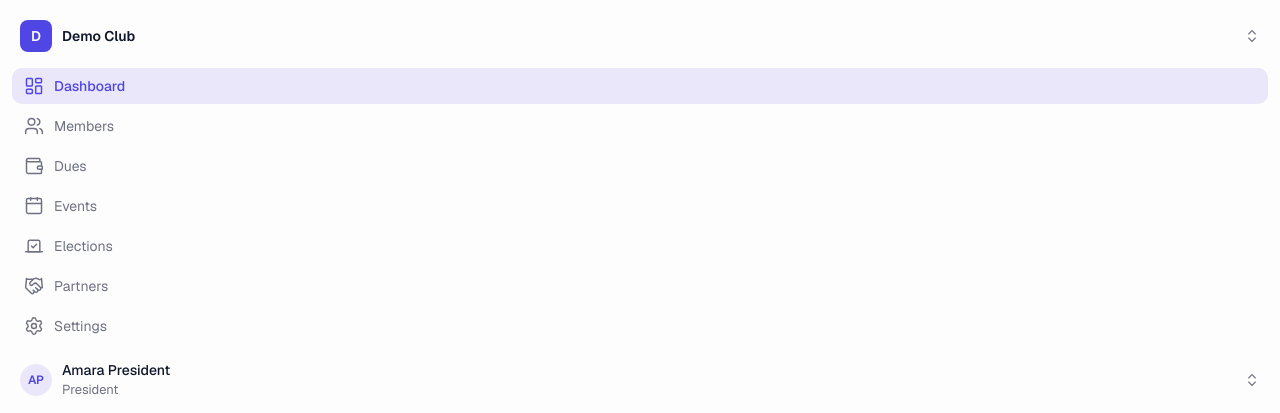
Test case: Sidebar club switcher › opens a menu listing the user's other clubs
Step 1. Click the button "D Demo Club" → (36, 36), box [12,12,1268,60]
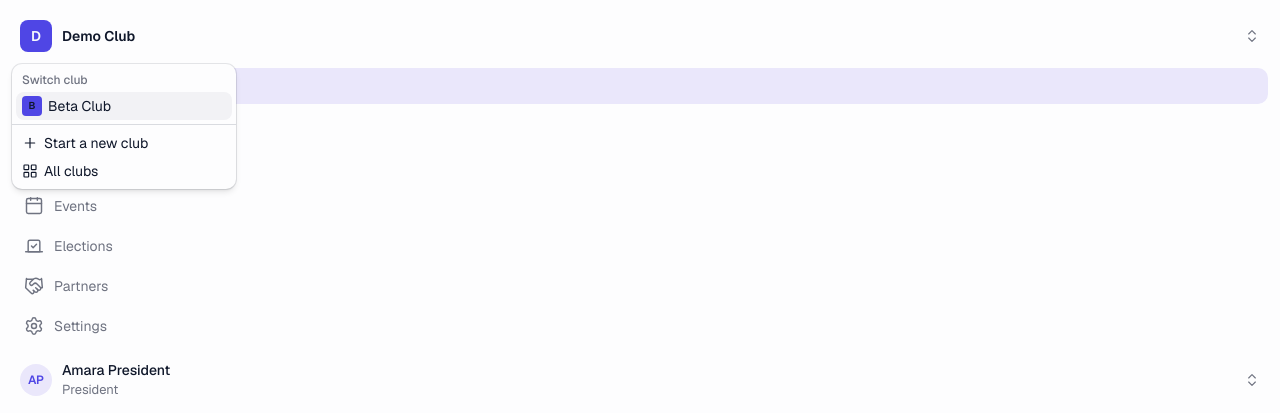
expect the menu item "B Beta Club" is shown: met, box [16,92,232,120]
